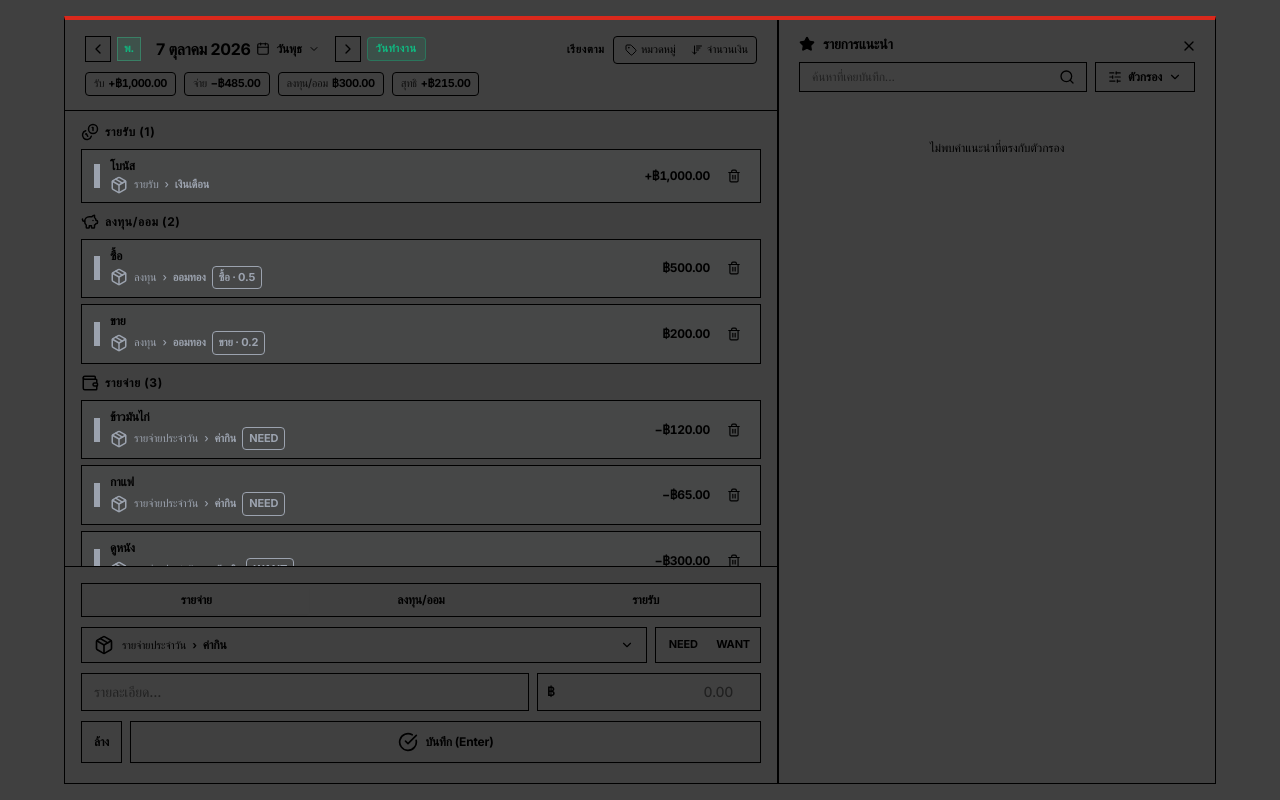
Test: DayDetailModal — closing and navigating › steps to the next / previous day, reports it and shows that day's rows
The image size is (1280, 800).
Click the button named "วันถัดไป (+1 วัน)" at (348, 49), box [335,36,361,62]
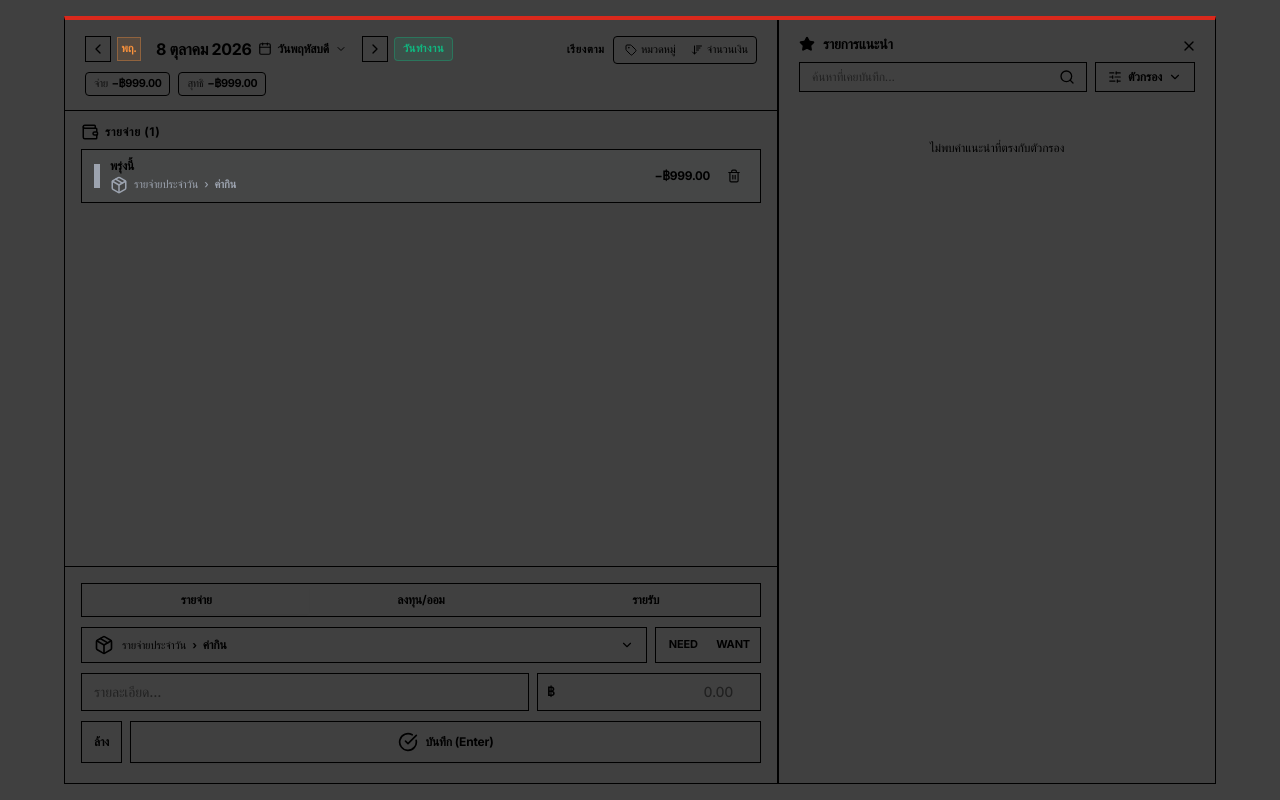
Check: the heading "8 ตุลาคม 2026" is shown, box [156,37,252,61]
Click the button named "วันก่อนหน้า (-1 วัน)" at (98, 49), box [85,36,111,62]
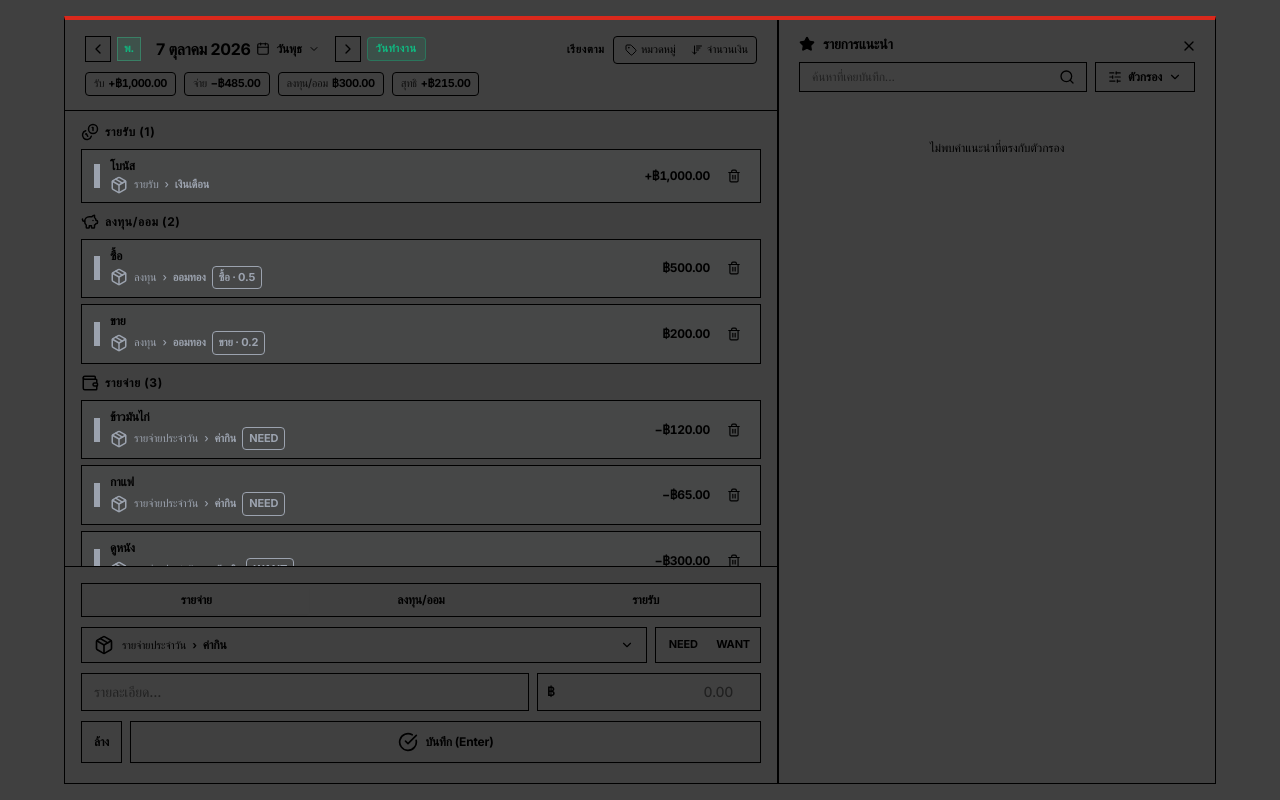
Check: the heading "7 ตุลาคม 2026" is shown, box [156,37,250,61]
